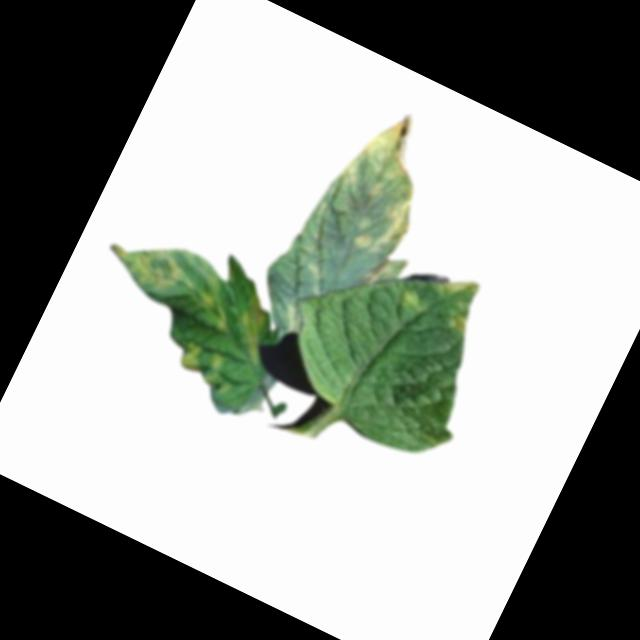Leaf_Mold: (334, 93, 433, 210), (96, 226, 191, 299), (224, 289, 284, 363), (171, 337, 241, 396), (429, 262, 484, 311), (377, 190, 423, 247), (348, 224, 377, 253), (396, 285, 425, 312), (444, 307, 472, 333)
